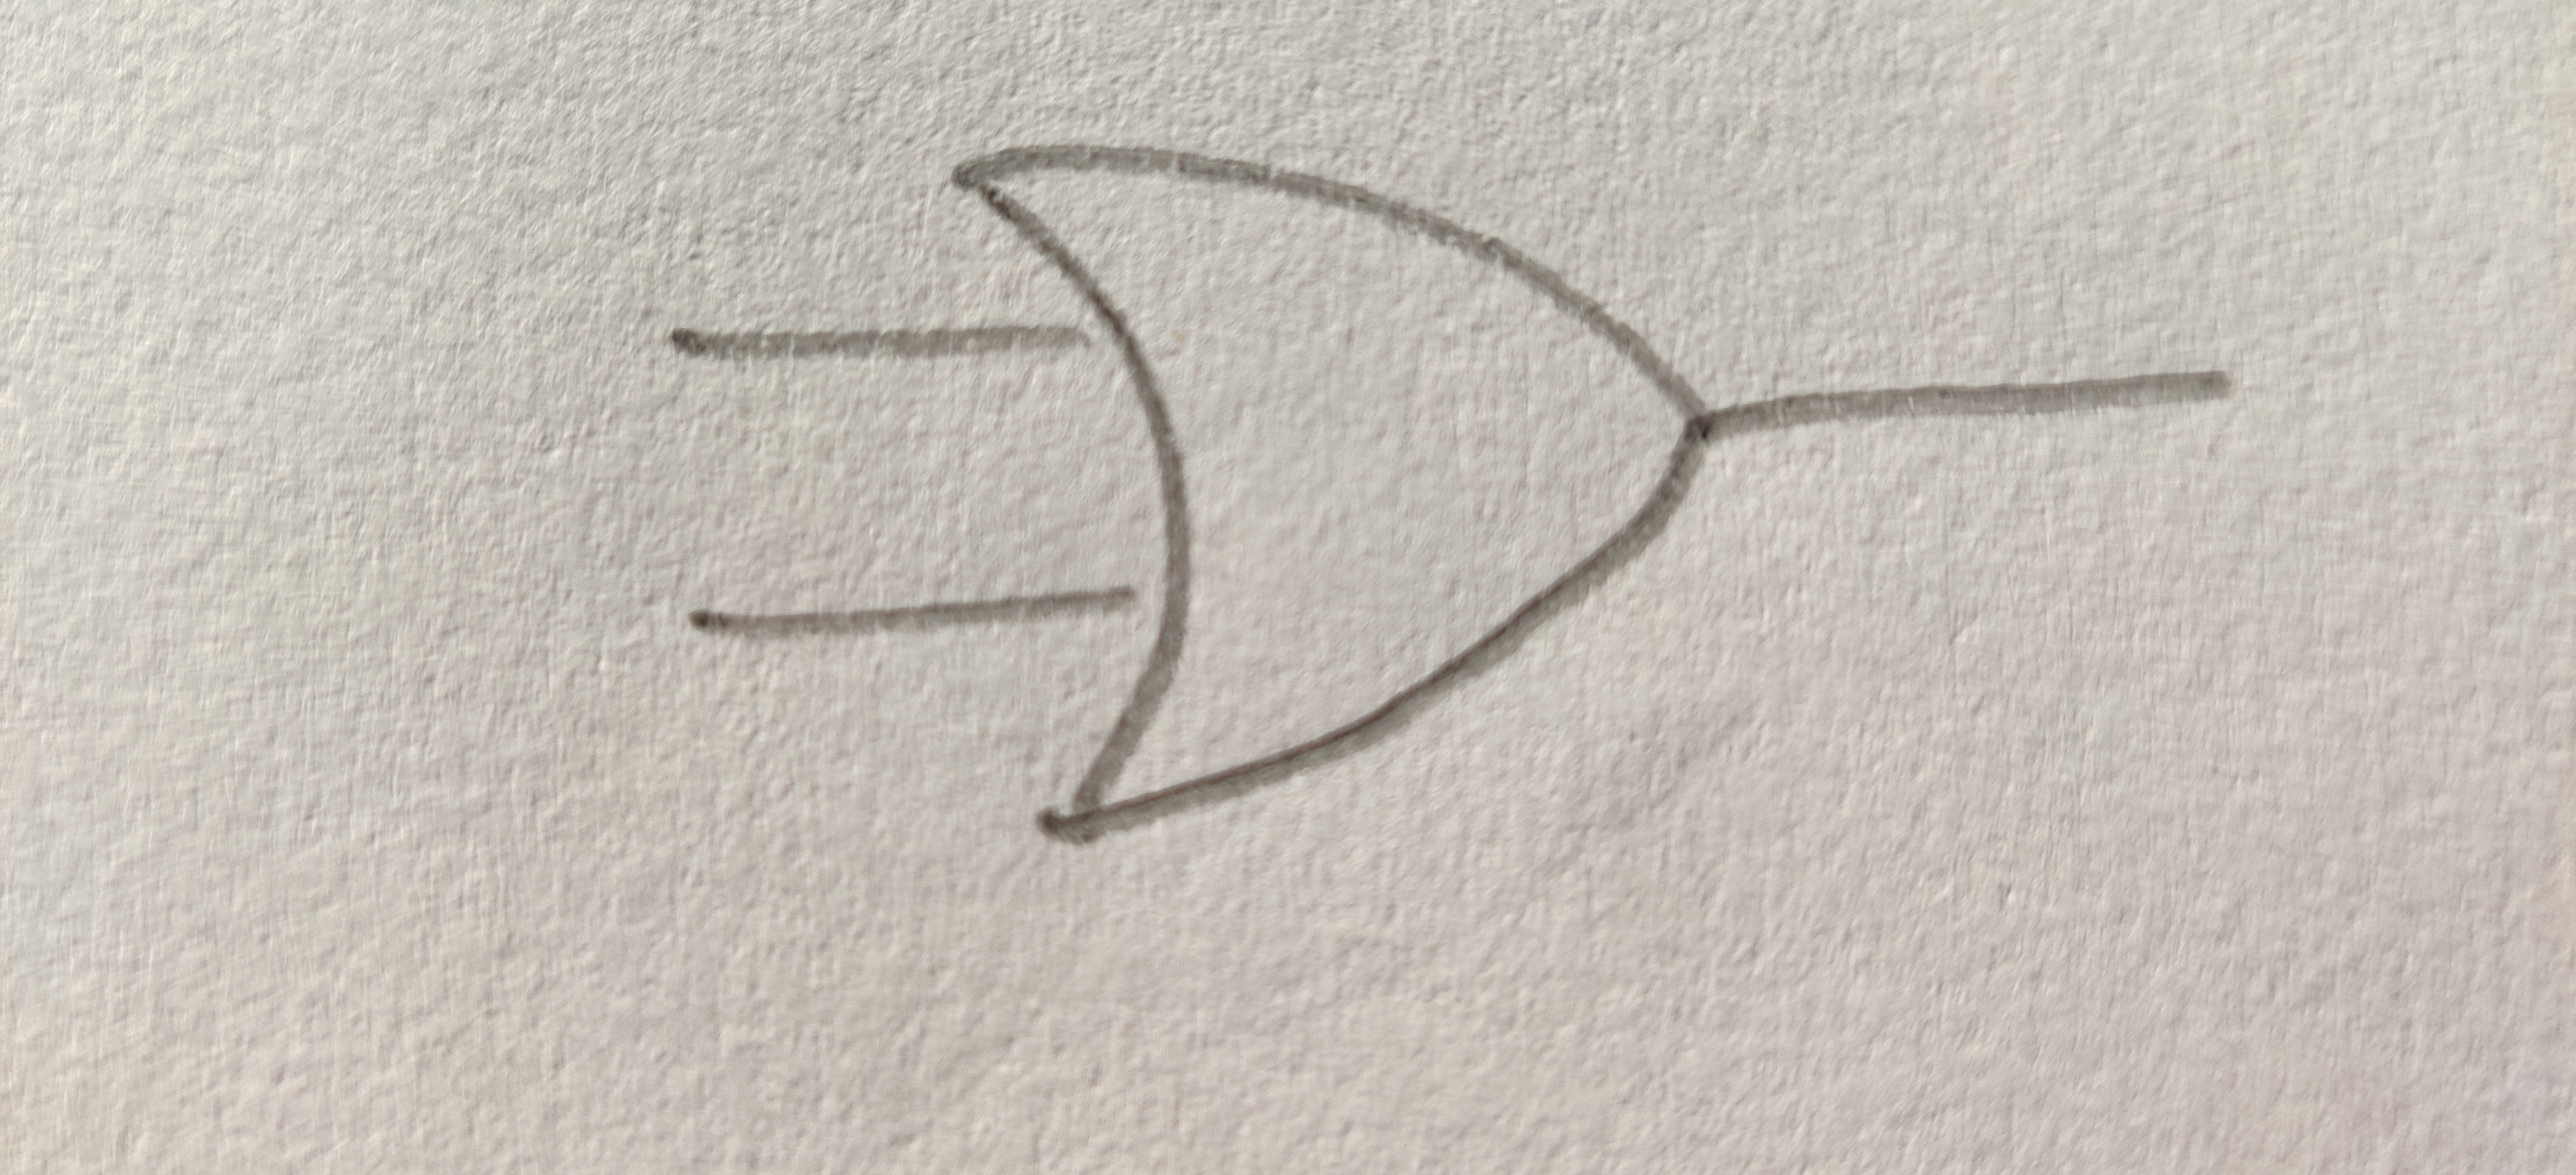or: (961, 148, 1709, 843)
